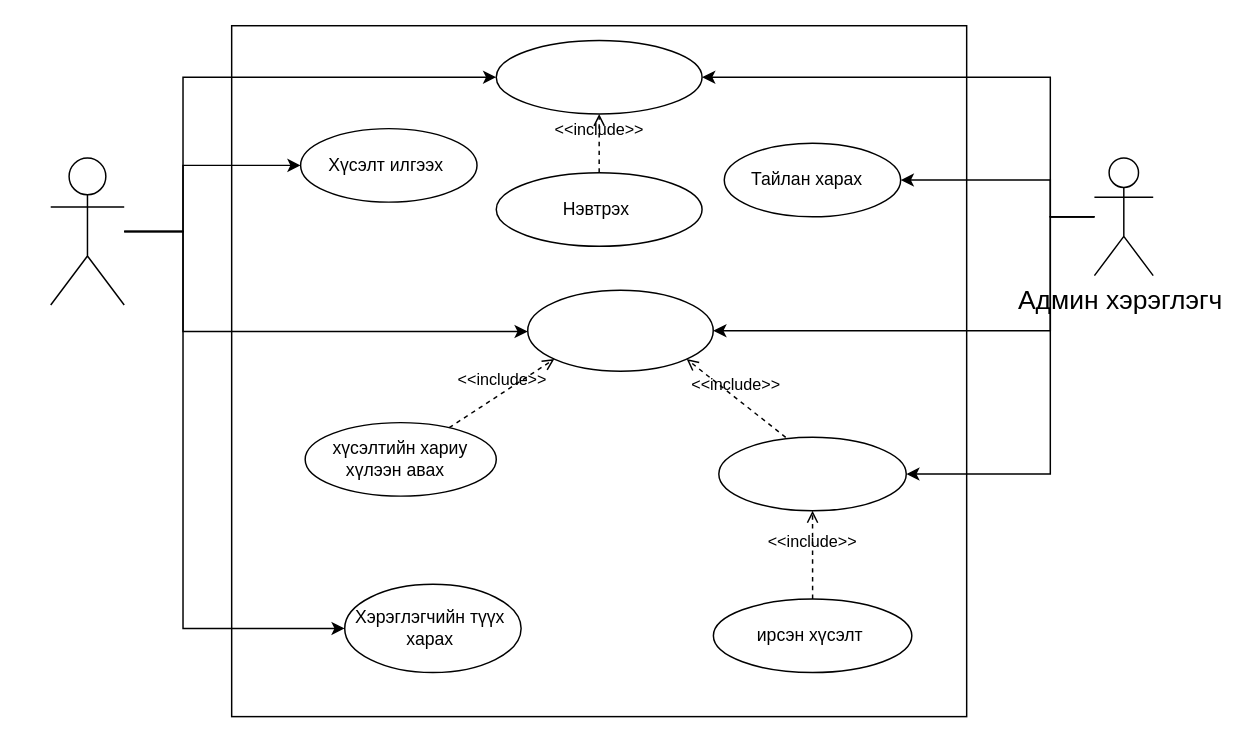
Image size: 1255x742. Some labels were removed from this diagram. Here are the shapes that lost their labels. From the top down, the box of each, then its label:
(495, 39, 702, 114): Бүртгүүлэх
(49, 157, 124, 305): хэрэглэгч
(526, 289, 713, 371): Мэдэгдэл хүлээн авах
(717, 436, 906, 511): Хариу илгээх
